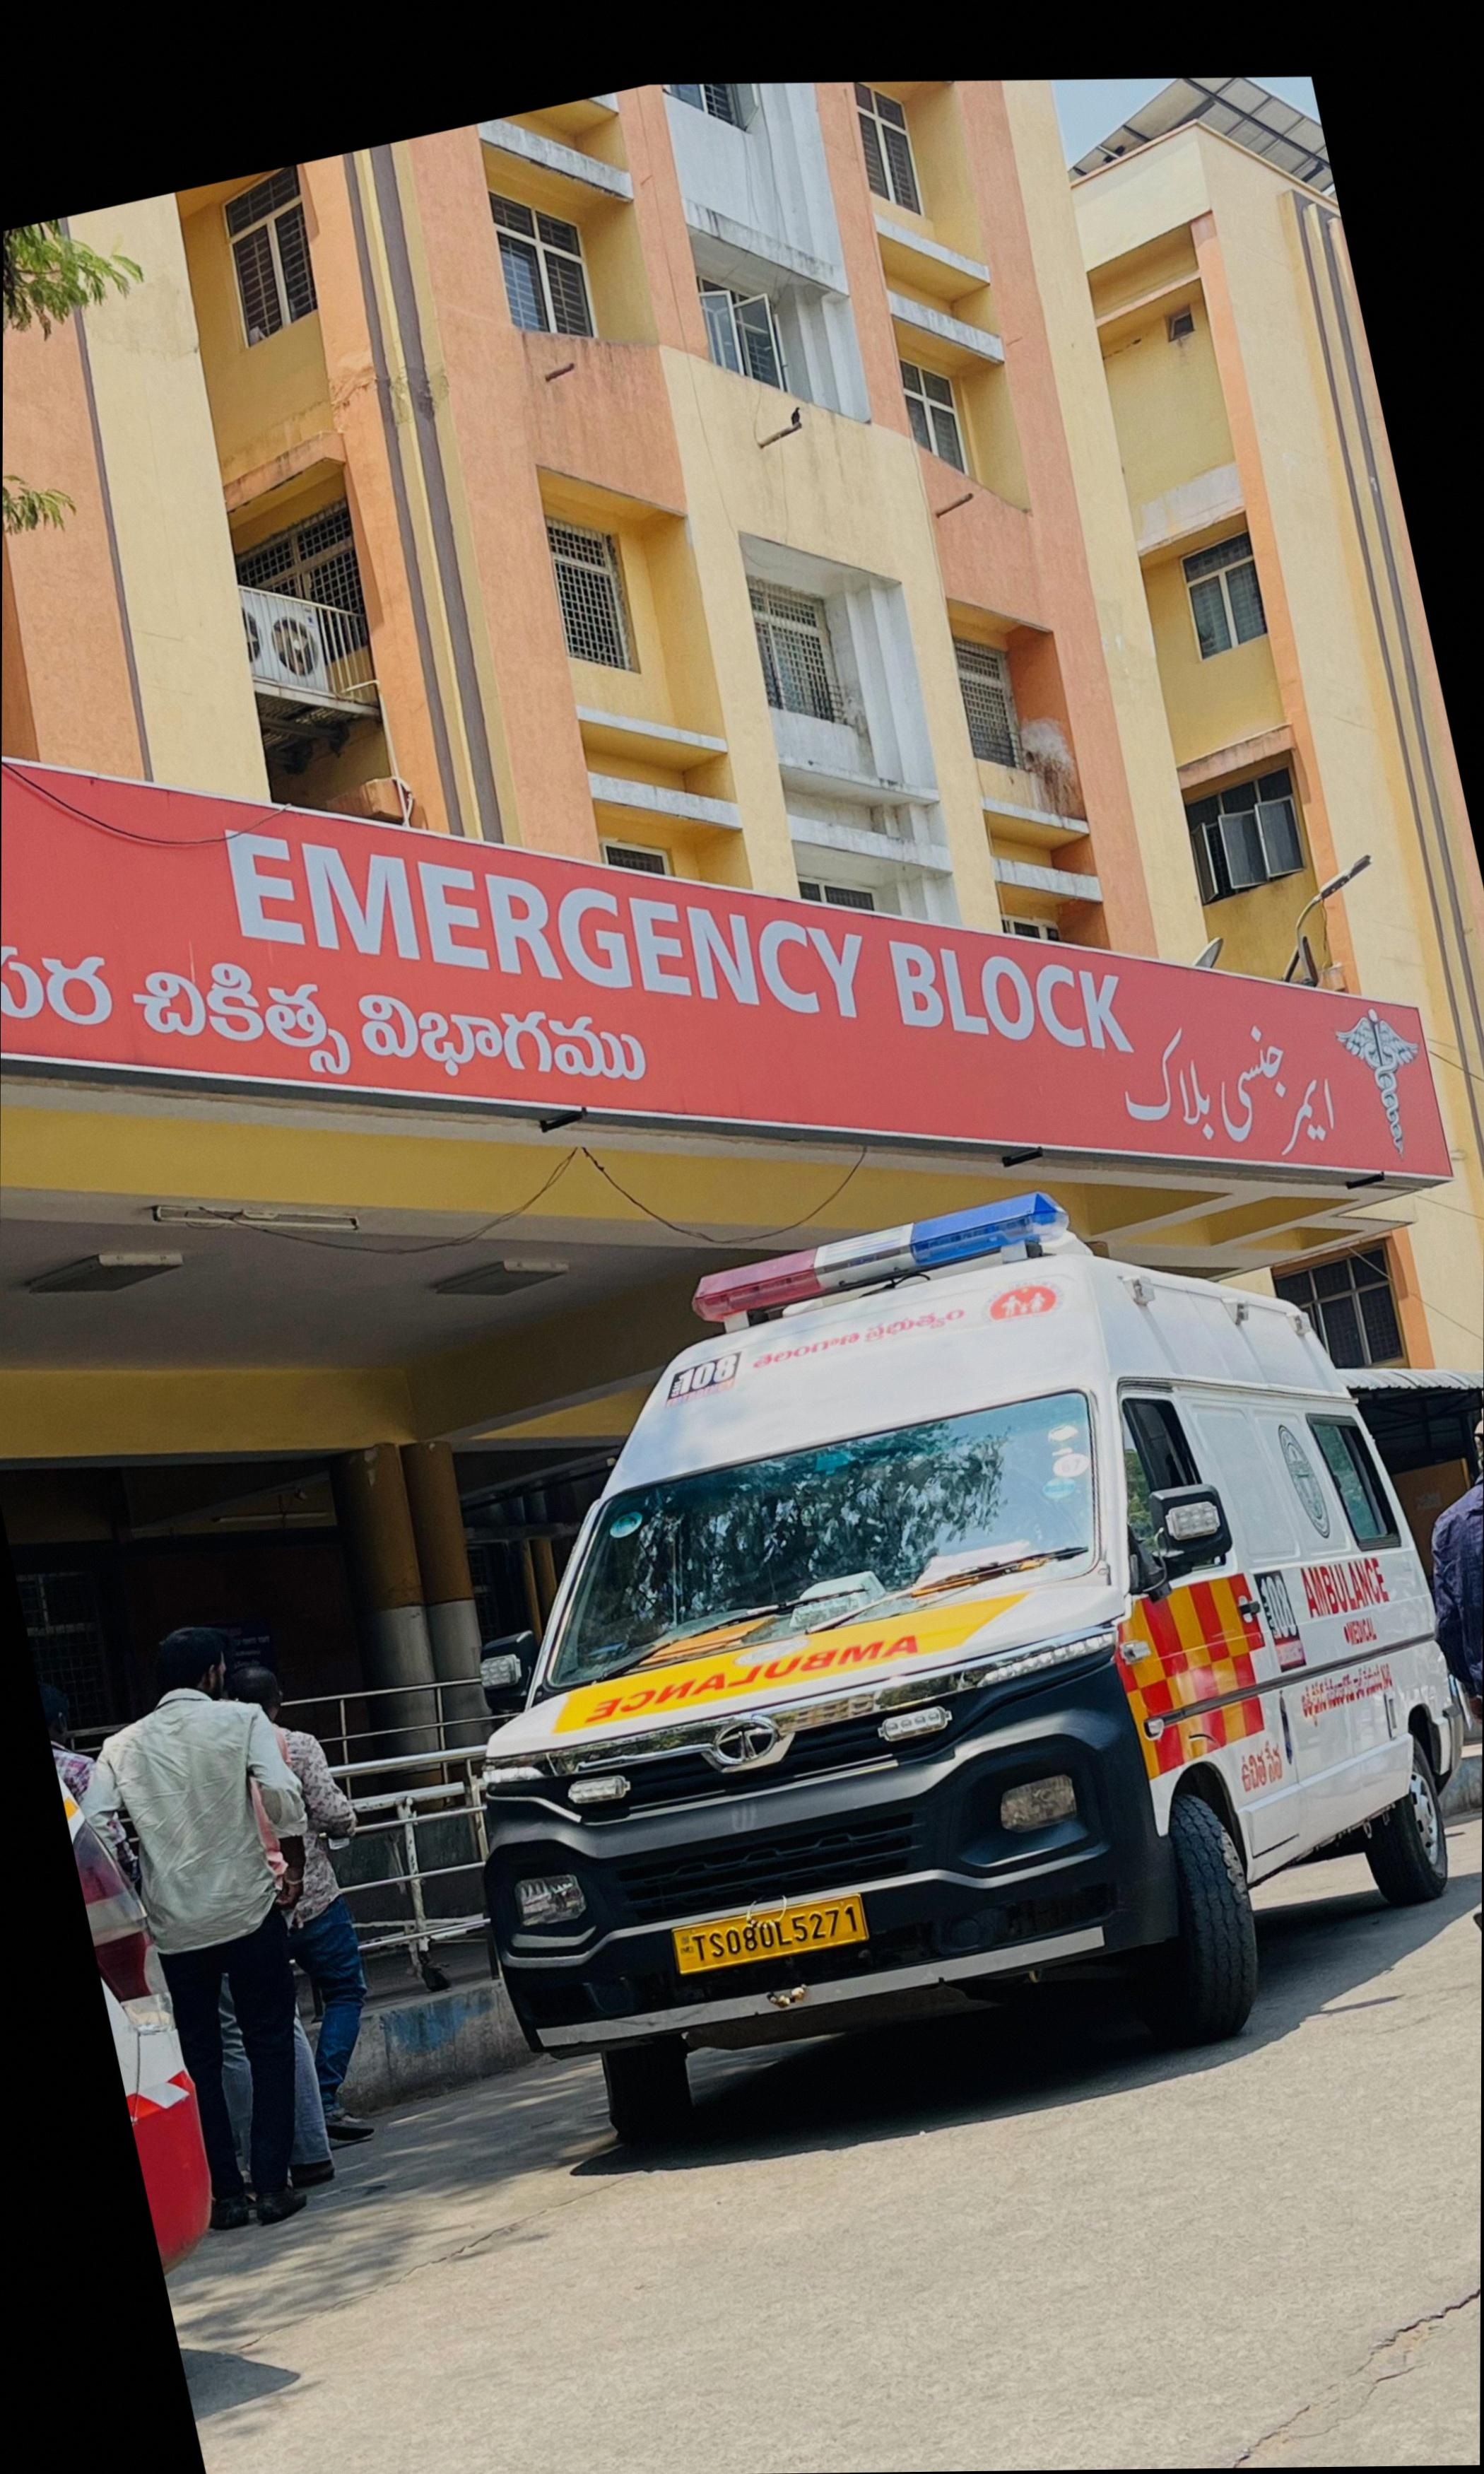ambulance: (481, 1202, 1468, 2154)
